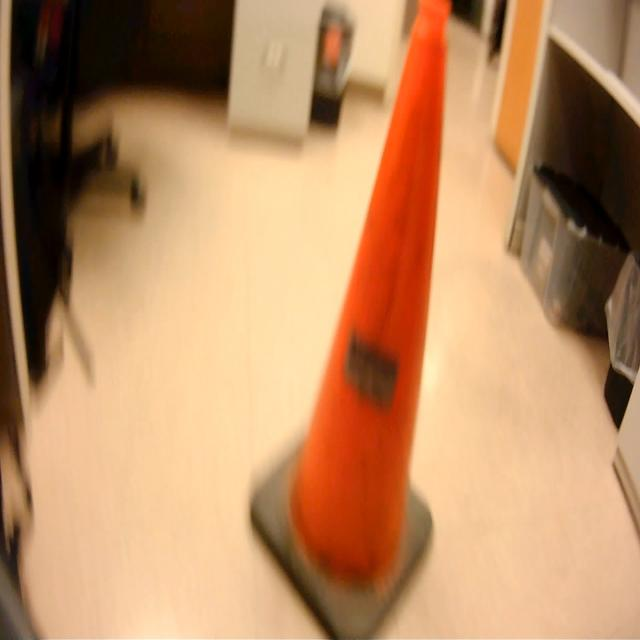traffic cone: (245, 1, 458, 640)
